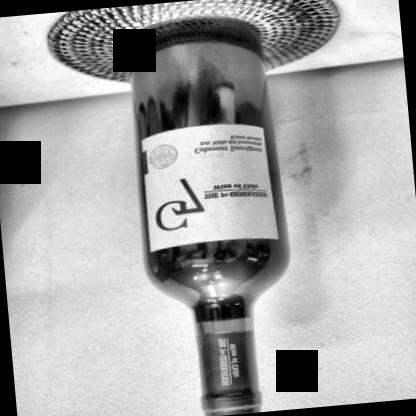G7: (142, 117, 282, 258)
